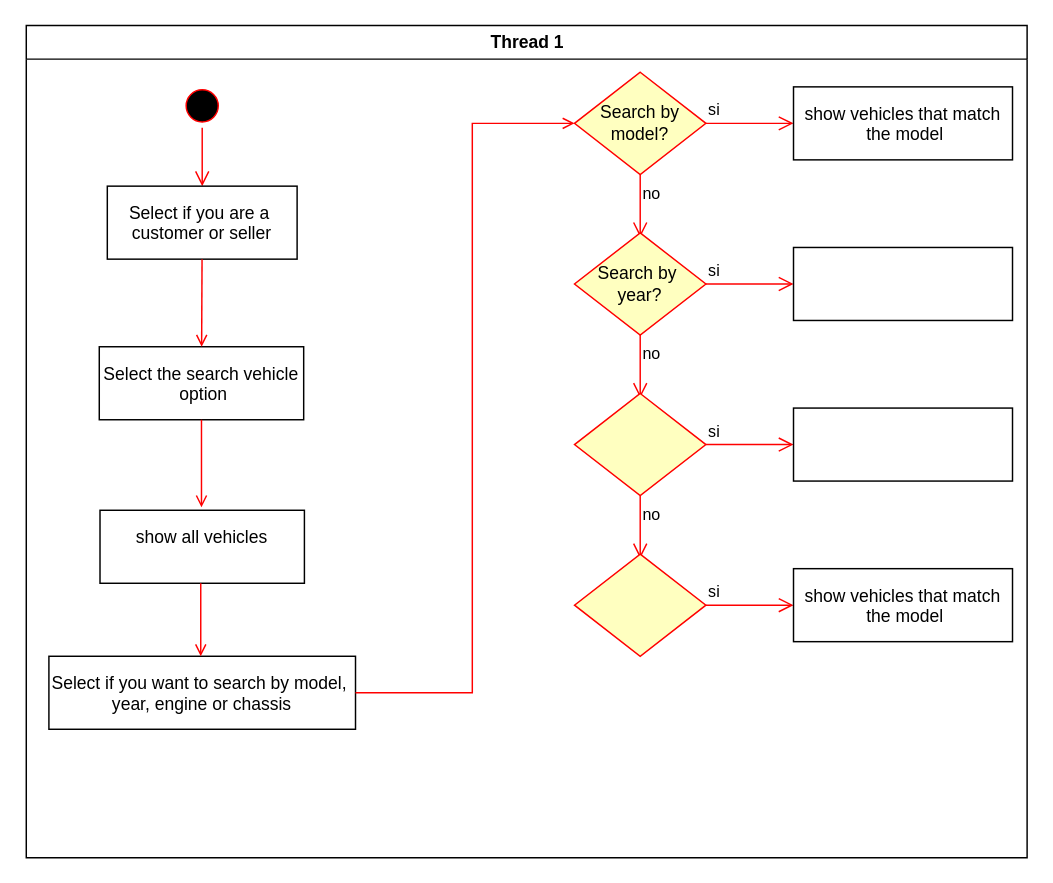
Image size: 1053x883. Some labels were removed from this diagram. Here are the shapes that lost their labels. From the top down, the box of each, then its label:
(792, 246, 1013, 320): show vehicles that match the year
(573, 392, 706, 496): Search by engine?
(792, 407, 1013, 481): show vehicles that match the engine
(573, 553, 706, 656): Search by chassis?
